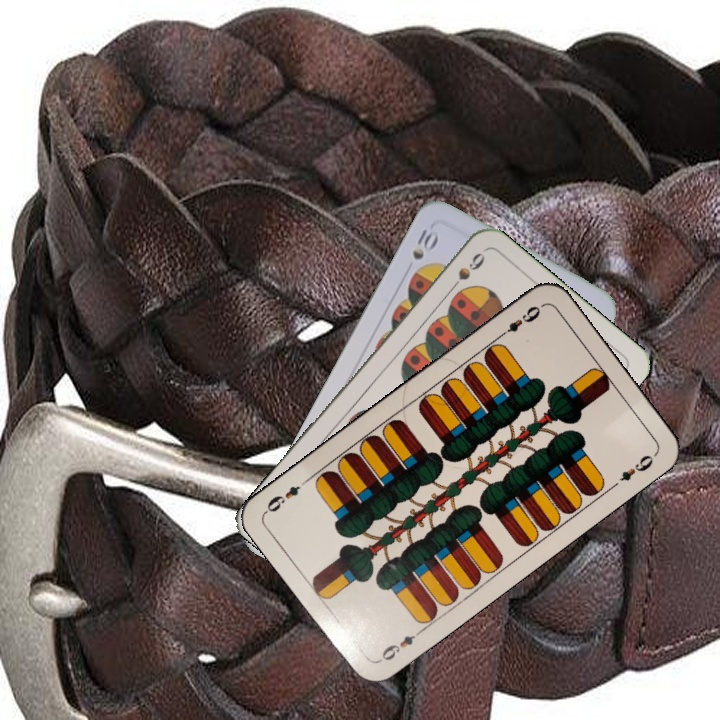E9: (494, 301, 546, 341), (374, 630, 418, 665)
S10: (408, 222, 442, 263)
S9: (443, 248, 488, 297)
